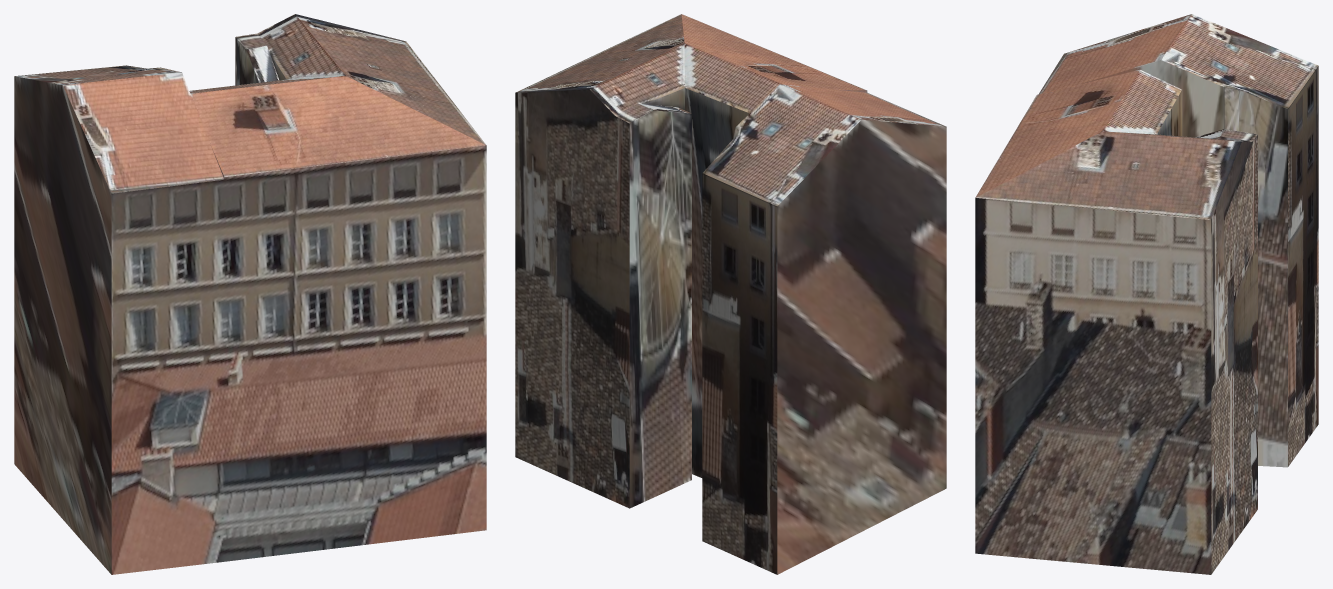
The picture shows the model from 3 angles, left to right: view 1: azimuth 30°, elevation 25°; view 2: azimuth 150°, elevation 25°; view 3: azimuth 270°, elevation 25°; orthographic projection. The views are drawn at different scales.
Parts seen in each view (by area): view 1: Z_UP; view 2: Z_UP; view 3: Z_UP.
Part boxes in pixels (bbox=[...]): Z_UP: bbox=[14, 14, 486, 574]; Z_UP: bbox=[515, 14, 946, 574]; Z_UP: bbox=[975, 14, 1318, 574].
Bounding box in the file's own units: 23.47 × 26.01 × 20.17.
Materials: 2 (1 with a texture image).
